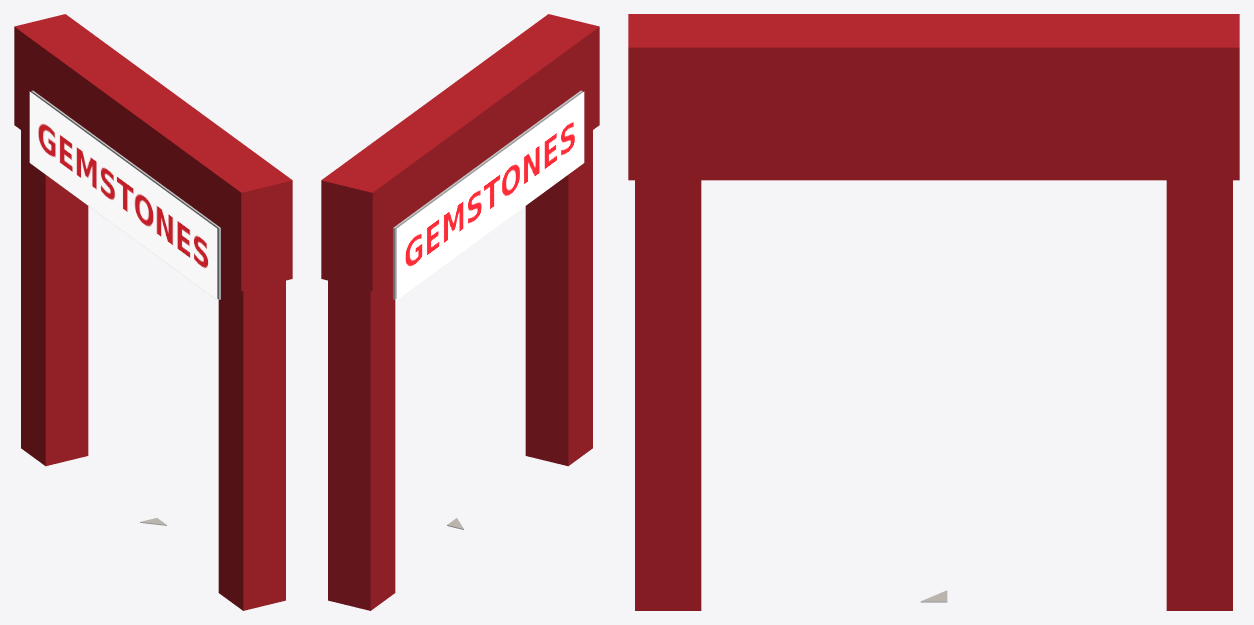
Rendered from gemstones_pb.glb.
3 renders of one model, left to right at view 1: azimuth 30°, elevation 25°; view 2: azimuth 150°, elevation 25°; view 3: azimuth 270°, elevation 25°, orthographic. The views are drawn at different scales.
Parts seen in each view (by area): view 1: gemstones_pb_lod0; view 2: gemstones_pb_lod0; view 3: gemstones_pb_lod0.
Boxes of the visible parts, x1,y1,x2,y2 form: gemstones_pb_lod0: (14,14,292,610); gemstones_pb_lod0: (321,14,599,610); gemstones_pb_lod0: (628,14,1239,610).
Size of what is drawn, in the model's own units: 0.6501 by 4.7 by 4.6.
5 materials, 1 textured.
